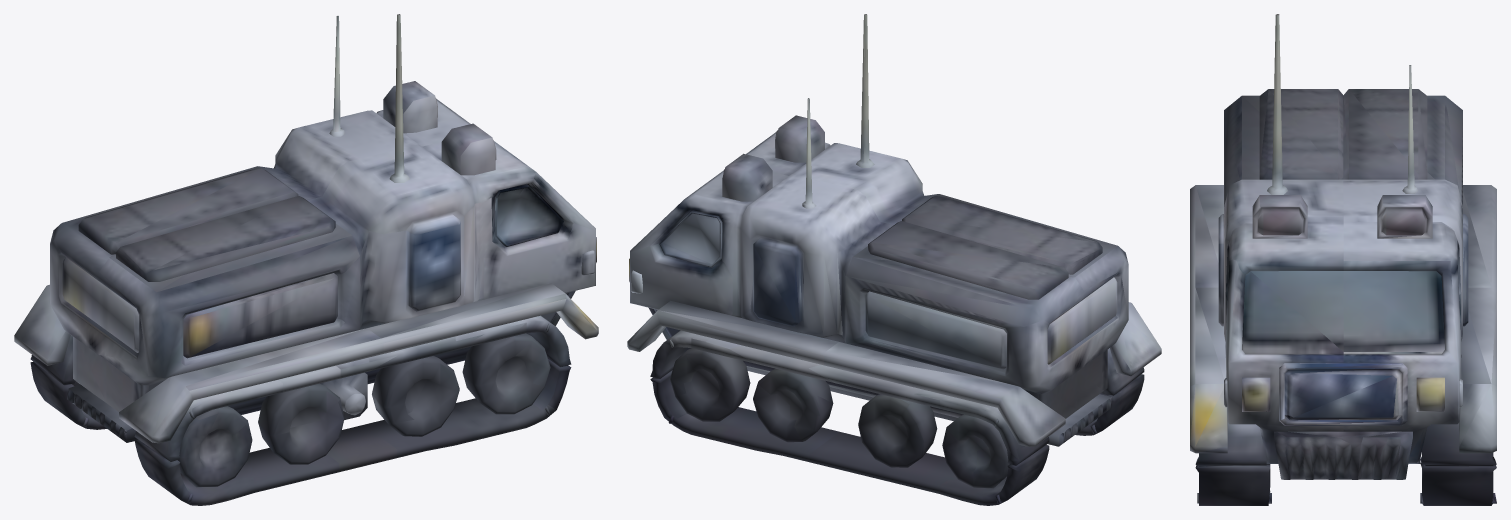
The model's file is 整備庫_23_履帶車.glb.
3 views of the same model, side by side, from view 1: azimuth 30°, elevation 25°; view 2: azimuth 150°, elevation 25°; view 3: azimuth 270°, elevation 25° (orthographic). The views are drawn at different scales.
Parts seen in each view (by area): view 1: 23_履帶車; view 2: 23_履帶車; view 3: 23_履帶車.
Part boxes in pixels (bbox=[...]): 23_履帶車: bbox=[14, 14, 598, 505]; 23_履帶車: bbox=[627, 14, 1161, 505]; 23_履帶車: bbox=[1190, 14, 1496, 505].
Size of the model in its own units: 0.1587 by 0.1323 by 0.084.
1 material, 1 textured.
